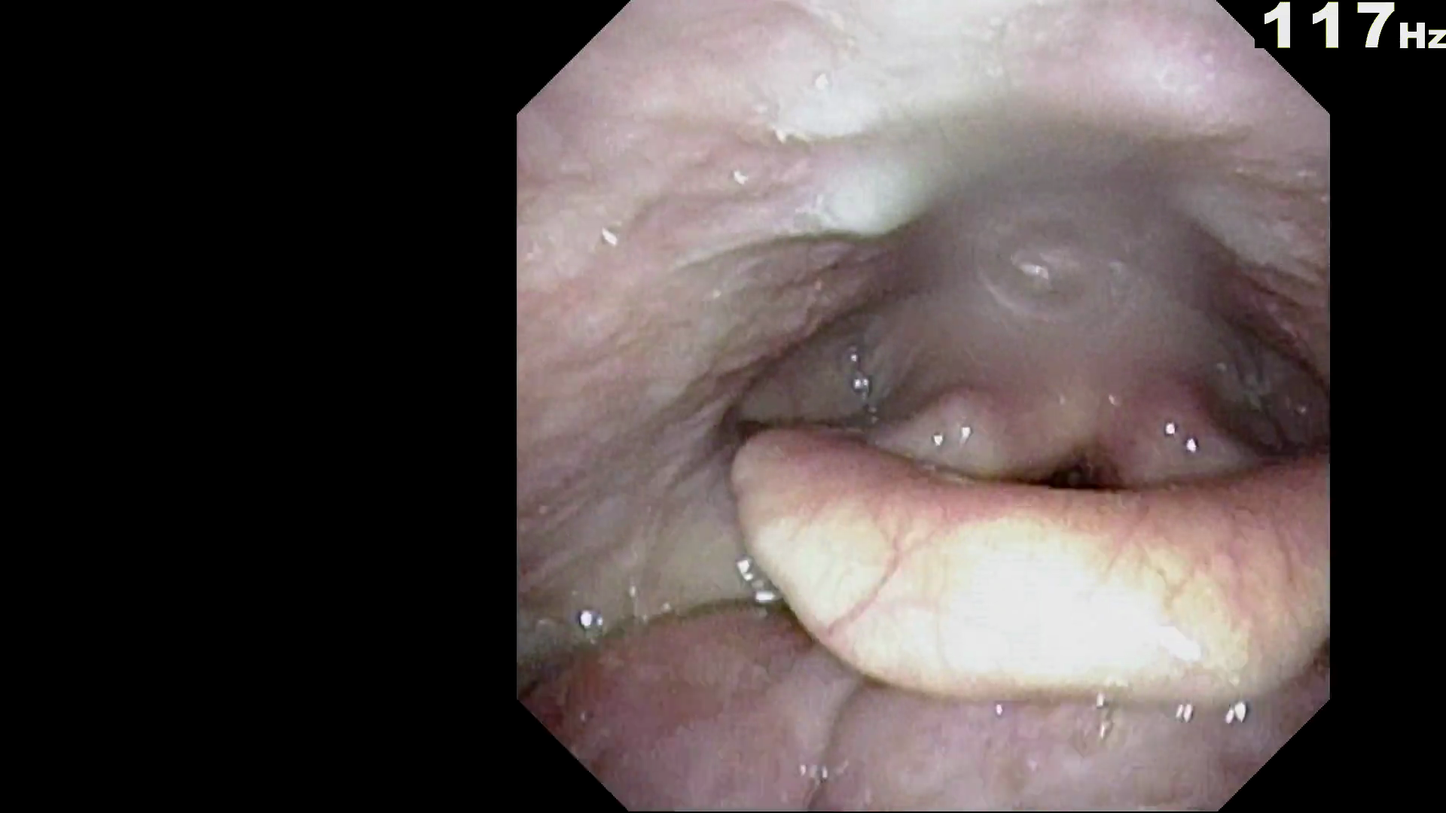epiglottis: (734, 409, 1321, 694)
trachea: (1005, 434, 1136, 504)
